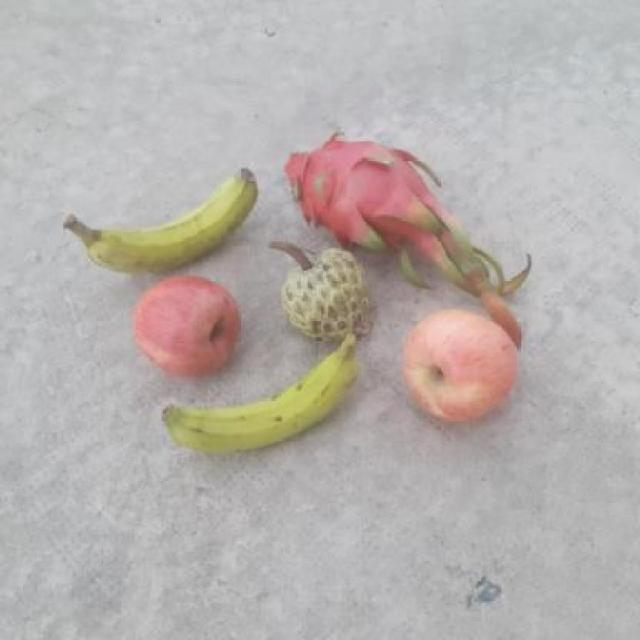apple: (401, 302, 524, 430), (119, 266, 252, 379)
banana: (58, 160, 268, 271), (152, 345, 360, 450)
dragon fruit: (278, 126, 447, 240)
sugar apple: (270, 244, 370, 342)
